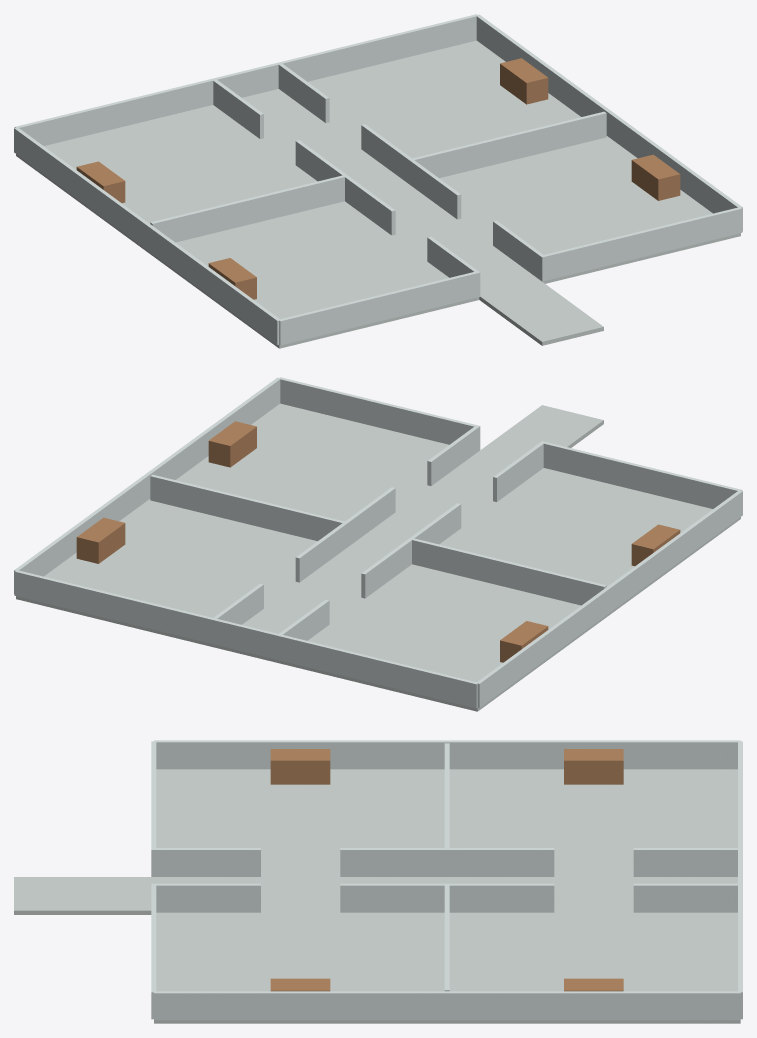
File: archive-cutaway.glb
The picture shows the model from 3 angles, top to bottom: view 1: azimuth 30°, elevation 25°; view 2: azimuth 150°, elevation 25°; view 3: azimuth 270°, elevation 25°; orthographic projection. The views are drawn at different scales.
Parts seen in each view (by area): view 1: archive/floor/cutaway.002, archive/rear-wall/cutaway.002, archive/outer--1/cutaway.002, archive/outer-1/cutaway.002, archive/entry-jamb--1/cutaway.002, archive/entry-jamb-1/cutaway.002, archive/room-divider--1/cutaway.002, archive/room-divider-1/cutaway.002, archive/portal-floor-0/cutaway.002, archive/desk-1/cutaway.002, archive/desk-3/cutaway.002, archive/corridor-1-1-a/cutaway.002 (+9 smaller); view 2: archive/floor/cutaway.002, archive/rear-wall/cutaway.002, archive/outer--1/cutaway.002, archive/outer-1/cutaway.002, archive/entry-jamb-1/cutaway.002, archive/entry-jamb--1/cutaway.002, archive/room-divider--1/cutaway.002, archive/room-divider-1/cutaway.002, archive/portal-floor-0/cutaway.002, archive/desk-3/cutaway.002, archive/desk-1/cutaway.002, archive/corridor-1--1-b/cutaway.002 (+9 smaller); view 3: archive/floor/cutaway.002, archive/outer-1/cutaway.002, archive/outer--1/cutaway.002, archive/portal-floor-0/cutaway.002, archive/corridor-1--1-b/cutaway.002, archive/corridor-1-1-a/cutaway.002, archive/corridor-1-1-b/cutaway.002, archive/corridor-1--1-a/cutaway.002, archive/corridor--1-1-a/cutaway.002, archive/corridor--1--1-b/cutaway.002, archive/corridor--1-1-b/cutaway.002, archive/corridor--1--1-a/cutaway.002 (+9 smaller).
Boxes of the visible parts, <box> form: archive/floor/cutaway.002: <box>16,40,740,348</box>; archive/rear-wall/cutaway.002: <box>14,14,478,145</box>; archive/outer--1/cutaway.002: <box>14,127,279,344</box>; archive/outer-1/cutaway.002: <box>476,14,742,231</box>; archive/entry-jamb--1/cutaway.002: <box>278,271,480,345</box>; archive/entry-jamb-1/cutaway.002: <box>540,207,742,281</box>; archive/room-divider--1/cutaway.002: <box>150,175,344,242</box>; archive/room-divider-1/cutaway.002: <box>412,111,606,178</box>; archive/portal-floor-0/cutaway.002: <box>479,281,603,345</box>; archive/desk-1/cutaway.002: <box>631,154,680,200</box>; archive/desk-3/cutaway.002: <box>500,58,548,104</box>; archive/corridor-1-1-a/cutaway.002: <box>409,159,461,219</box>; archive/floor/cutaway.002: <box>16,403,740,711</box>; archive/rear-wall/cutaway.002: <box>14,570,477,708</box>; archive/outer--1/cutaway.002: <box>476,490,742,707</box>; archive/outer-1/cutaway.002: <box>14,377,280,594</box>; archive/entry-jamb-1/cutaway.002: <box>278,377,480,450</box>; archive/entry-jamb--1/cutaway.002: <box>541,441,742,508</box>; archive/room-divider--1/cutaway.002: <box>412,538,606,605</box>; archive/room-divider-1/cutaway.002: <box>150,474,344,541</box>; archive/portal-floor-0/cutaway.002: <box>480,405,603,459</box>; archive/desk-3/cutaway.002: <box>76,517,125,563</box>; archive/desk-1/cutaway.002: <box>208,421,256,467</box>; archive/corridor-1--1-b/cutaway.002: <box>295,522,347,582</box>; archive/floor/cutaway.002: <box>154,769,740,1023</box>; archive/outer-1/cutaway.002: <box>154,991,740,1020</box>; archive/outer--1/cutaway.002: <box>154,740,740,769</box>; archive/portal-floor-0/cutaway.002: <box>14,877,153,914</box>; archive/corridor-1--1-b/cutaway.002: <box>447,883,554,912</box>; archive/corridor-1-1-a/cutaway.002: <box>340,883,447,912</box>; archive/corridor-1-1-b/cutaway.002: <box>154,883,260,912</box>; archive/corridor-1--1-a/cutaway.002: <box>633,883,740,912</box>; archive/corridor--1-1-a/cutaway.002: <box>340,848,447,876</box>; archive/corridor--1--1-b/cutaway.002: <box>447,848,554,876</box>; archive/corridor--1-1-b/cutaway.002: <box>154,848,260,876</box>; archive/corridor--1--1-a/cutaway.002: <box>633,848,739,876</box>.
Size of the model in its own units: 18.1 by 1.05 by 22.04.
